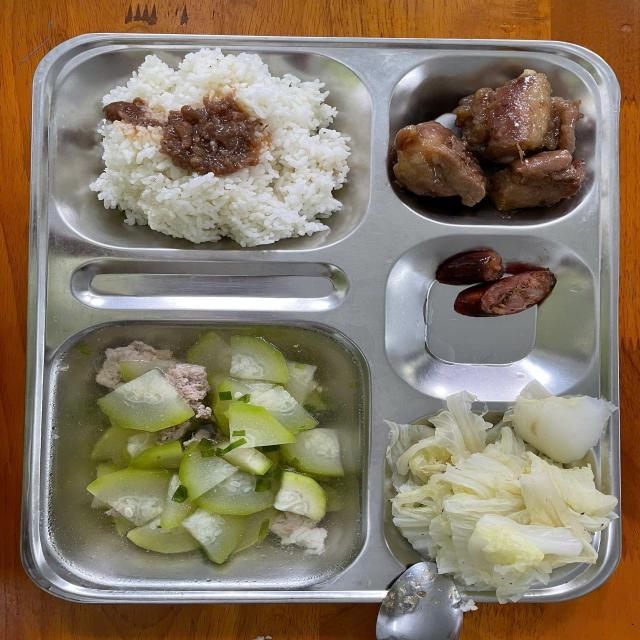cailuoc: (388, 404, 599, 586)
canhbau: (55, 323, 369, 572)
lapxuong: (434, 246, 562, 323)
salad: (97, 54, 353, 244)
thitkhogung: (387, 72, 588, 212)
